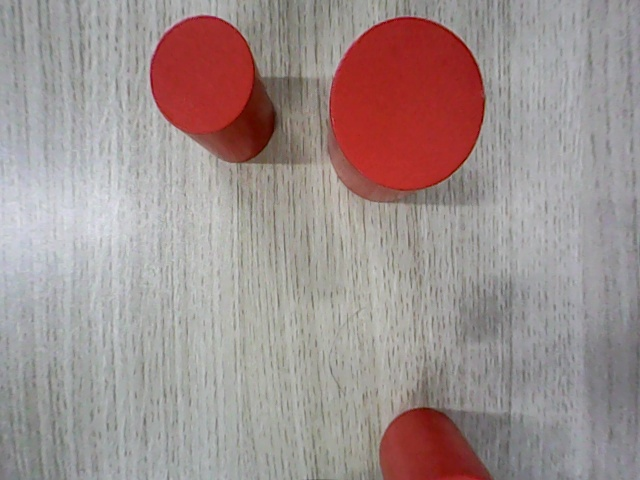upside of cylinder: (328, 16, 486, 192), (149, 15, 255, 135)
